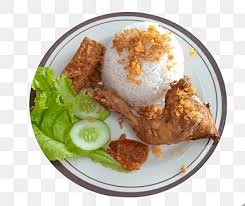Ayam goreng: (86, 78, 230, 144)
Nasi putih: (103, 12, 191, 105)
